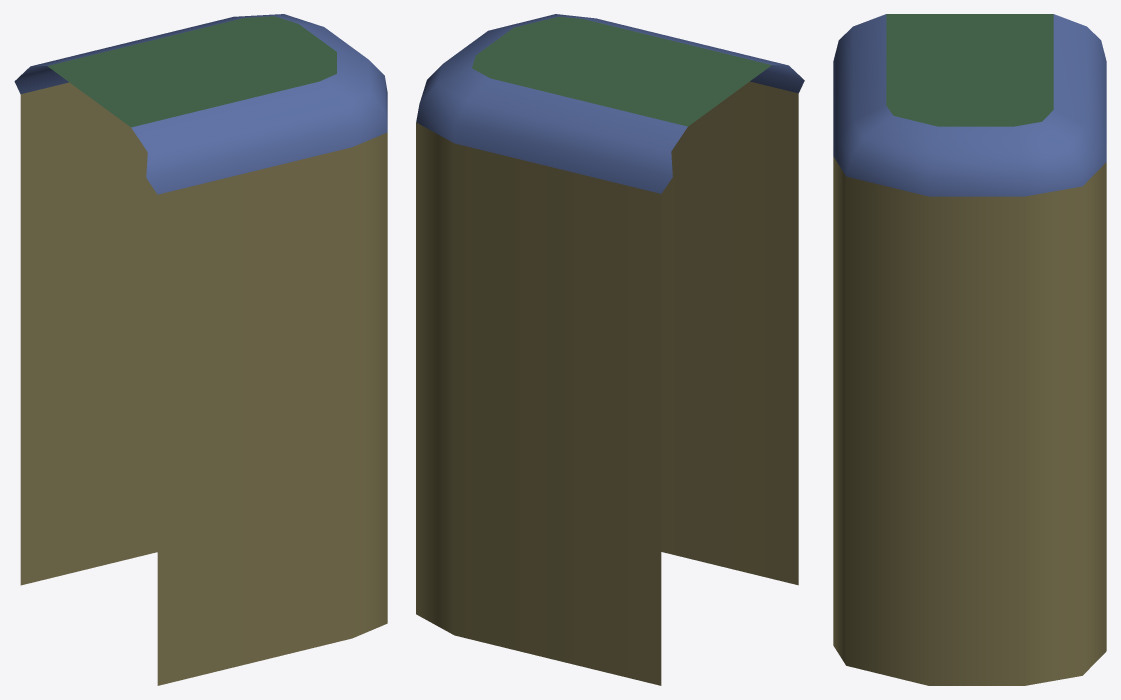
The model's file is Plat_secret_2.fbx.
3 views of the same model, side by side, from view 1: azimuth 30°, elevation 25°; view 2: azimuth 150°, elevation 25°; view 3: azimuth 270°, elevation 25° (orthographic).
Parts seen in each view (by area): view 1: Plat_secret_2, Wall8, Ground8; view 2: Plat_secret_2, Wall8, Ground8; view 3: Plat_secret_2, Wall8, Ground8.
Part boxes in pixels (x1,y1,x2,y2): Plat_secret_2: (20, 82, 387, 685); Wall8: (14, 14, 387, 194); Ground8: (47, 16, 336, 127); Plat_secret_2: (416, 81, 798, 685); Wall8: (416, 14, 804, 193); Ground8: (472, 16, 771, 126); Plat_secret_2: (833, 156, 1106, 685); Wall8: (833, 14, 1106, 196); Ground8: (886, 14, 1053, 126).
Bounding box in the file's own units: 2884 × 5183 × 2391.
